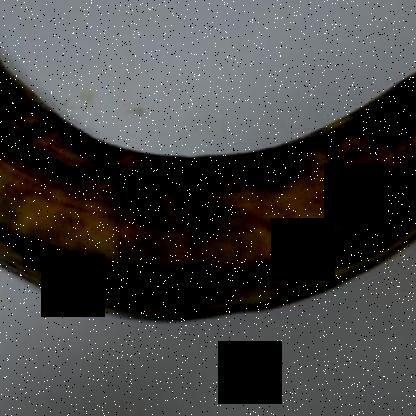overripe: (1, 22, 415, 355)
